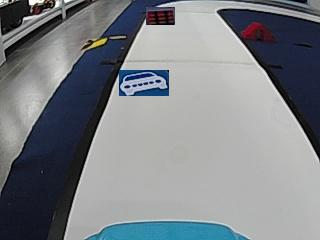bridge: (241, 22, 273, 40)
